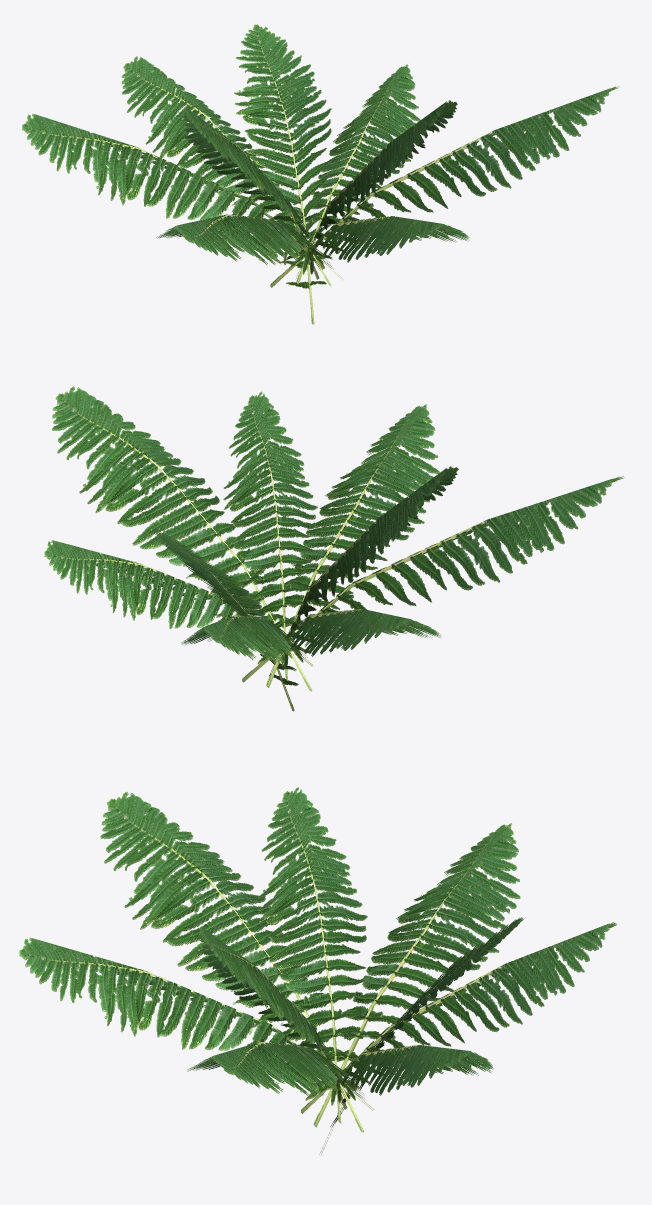
The model's file is fern.glb.
The picture shows the model from 3 angles, top to bottom: view 1: azimuth 30°, elevation 25°; view 2: azimuth 150°, elevation 25°; view 3: azimuth 270°, elevation 25°; orthographic projection. The views are drawn at different scales.
Parts seen in each view (by area): view 1: stktex_fern_diff_a.png__; view 2: stktex_fern_diff_a.png__; view 3: stktex_fern_diff_a.png__.
Part boxes in pixels (x1,y1,x2,y2): stktex_fern_diff_a.png__: (22, 24, 618, 324); stktex_fern_diff_a.png__: (44, 386, 624, 711); stktex_fern_diff_a.png__: (19, 787, 617, 1154).
Bounding box in the file's own units: 4.78 × 2.21 × 4.17.
Materials: 1 (1 with a texture image).
